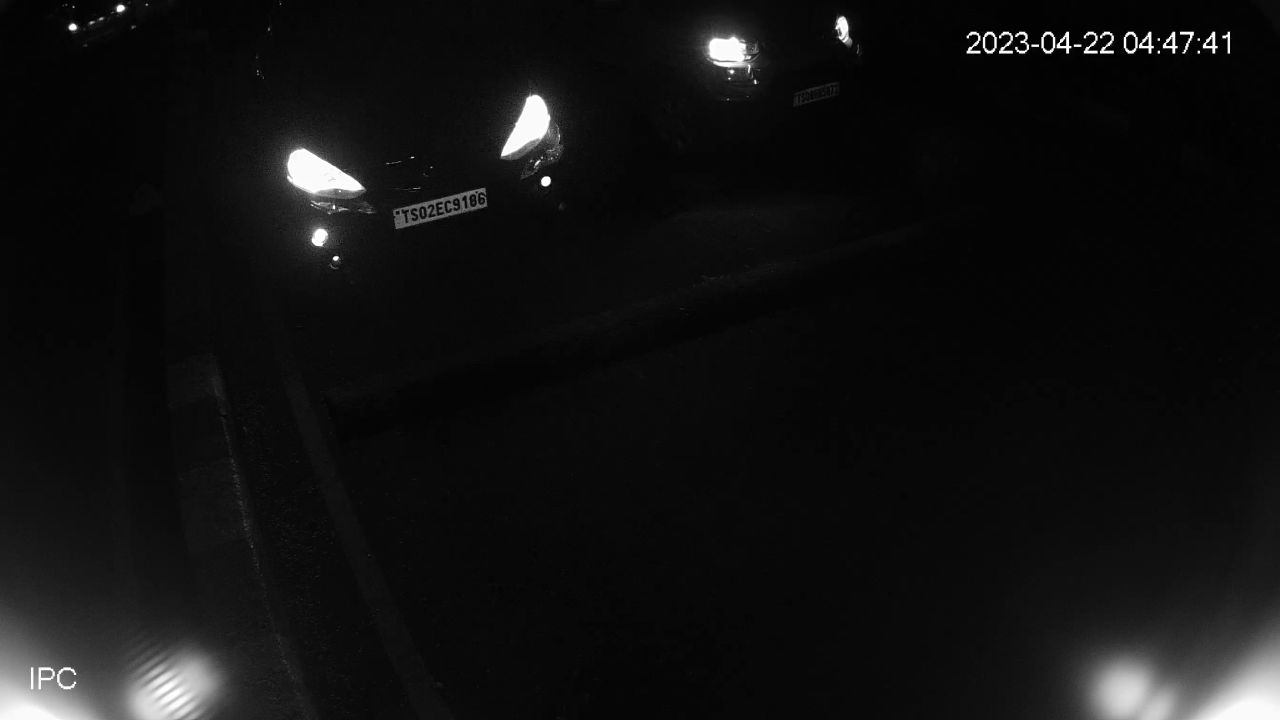license_plate: (388, 182, 494, 234), (788, 79, 846, 110)
